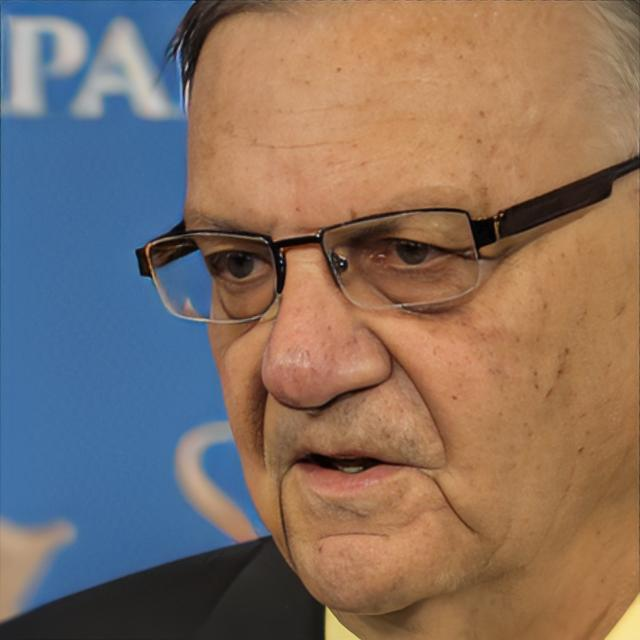anger: (176, 60, 630, 620)
